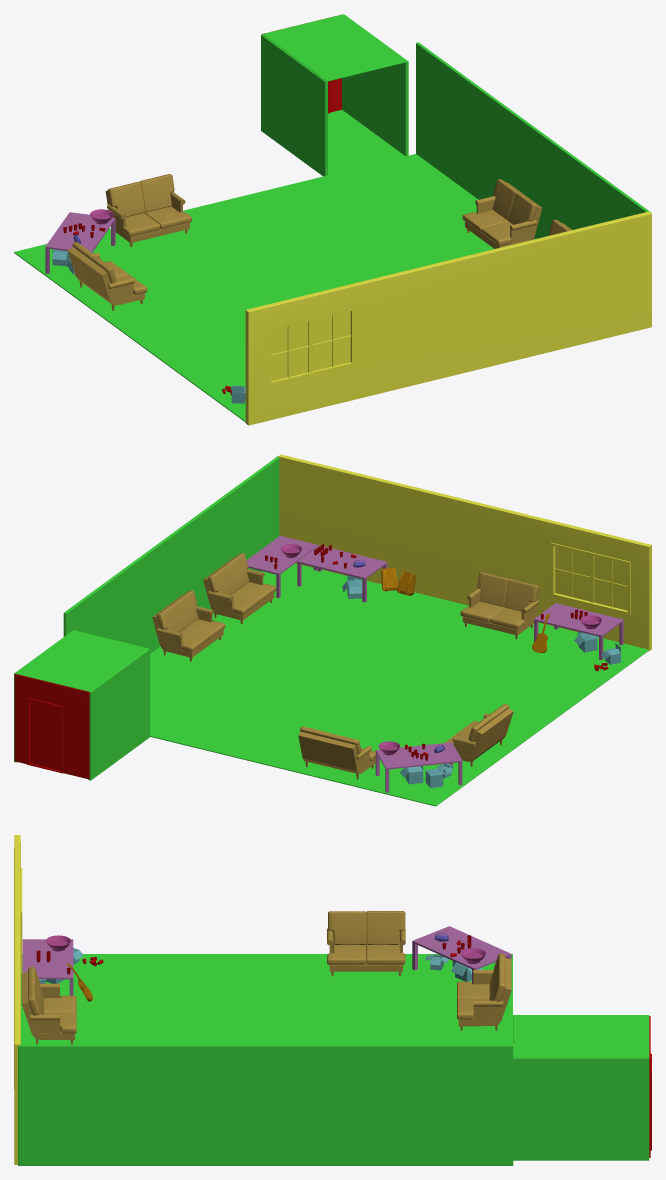
The model's file is Compiled Party for ref.fbx.
3 renders of one model, top to bottom at view 1: azimuth 30°, elevation 25°; view 2: azimuth 150°, elevation 25°; view 3: azimuth 270°, elevation 25°, orthographic. The views are drawn at different scales.
Visible parts, largest first — view 1: Floor1, Window_Wall, Wall_Room_2, Wall_Room_Hall_2, Ceiling_Hall, Wall_Room_Hall_1, Window_Window, Floor2, Sofa_8 (×2), Sofa_5 (×2), pCube1, Sofa_11 (+3 smaller); view 2: Floor1, Window_Wall, Wall_Room_2, pCube1 (×4), Wall_Room_Hall_2, Door_Wall1, Sofa_11 (×5), Ceiling_Hall, Window_Window, Sofa_5 (×3), Sofa_8 (×3), Door (+3 smaller); view 3: Wall_Room_2, Floor1, Wall_Room_Hall_1, Ceiling_Hall, pCube1 (×2), Window_Wall, Sofa_11 (×3), Sofa_1 (×2), Sofa_2 (×2), Sofa_8, Sofa_5, Sofa_9 (+1 smaller).
Boxes of the visible parts, x1,y1,x2,y2 form: Floor1: [14, 154, 493, 422]; Window_Wall: [245, 211, 651, 425]; Wall_Room_2: [416, 42, 651, 239]; Wall_Room_Hall_2: [261, 34, 327, 176]; Ceiling_Hall: [262, 14, 407, 81]; Wall_Room_Hall_1: [342, 14, 408, 156]; Window_Window: [271, 311, 350, 381]; Floor2: [328, 110, 405, 175]; Sofa_8 (×2): [139, 174, 537, 224]; Sofa_5 (×2): [107, 179, 518, 220]; pCube1: [45, 212, 115, 252]; Sofa_11: [67, 247, 144, 305]; Floor1: [150, 563, 649, 806]; Window_Wall: [278, 454, 651, 651]; Wall_Room_2: [63, 456, 279, 653]; pCube1 (×4): [246, 535, 623, 769]; Wall_Room_Hall_2: [88, 649, 149, 780]; Door_Wall1: [14, 674, 89, 779]; Sofa_11 (×5): [152, 556, 540, 774]; Ceiling_Hall: [15, 630, 148, 691]; Window_Window: [555, 546, 627, 610]; Sofa_5 (×3): [157, 565, 509, 632]; Sofa_8 (×3): [174, 553, 538, 628]; Door: [30, 701, 60, 770]; Wall_Room_2: [18, 1044, 513, 1165]; Floor1: [21, 954, 512, 1044]; Wall_Room_Hall_1: [513, 1057, 649, 1160]; Ceiling_Hall: [513, 1015, 649, 1057]; pCube1 (×2): [22, 926, 511, 979]; Window_Wall: [14, 835, 22, 1164]; Sofa_11 (×3): [21, 932, 511, 1040]; Sofa_1 (×2): [44, 944, 405, 1012]; Sofa_2 (×2): [327, 944, 489, 998]; Sofa_8: [366, 911, 405, 944]; Sofa_5: [328, 911, 366, 944]; Sofa_9: [30, 1014, 60, 1033].
Bounding box in the file's own units: 1225 × 329 × 1571.
